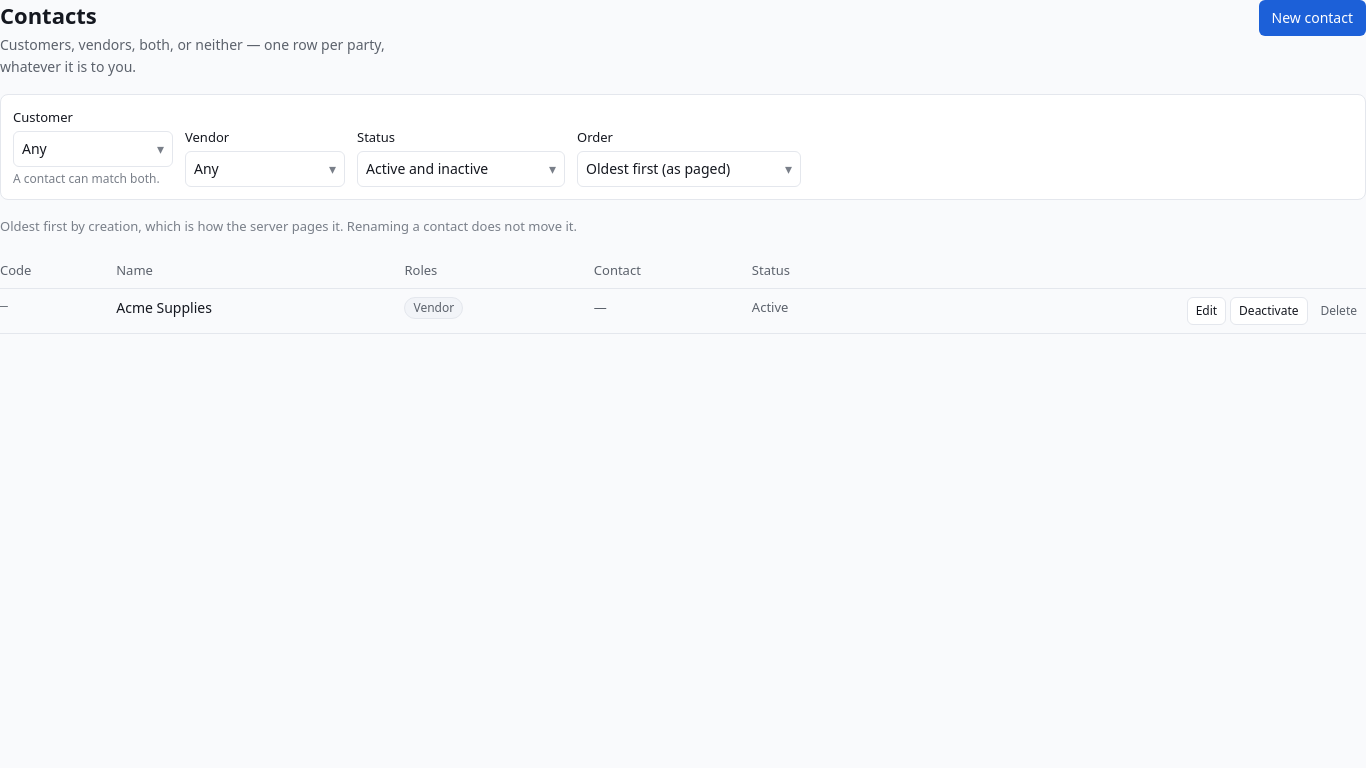
it: ContactsScreen › deletion › deletes a contact nothing references
This screenshot has width=1366, height=768.
Click the button with aria-label "Delete Acme Supplies" at (1339, 311), box [1312,297,1365,325]
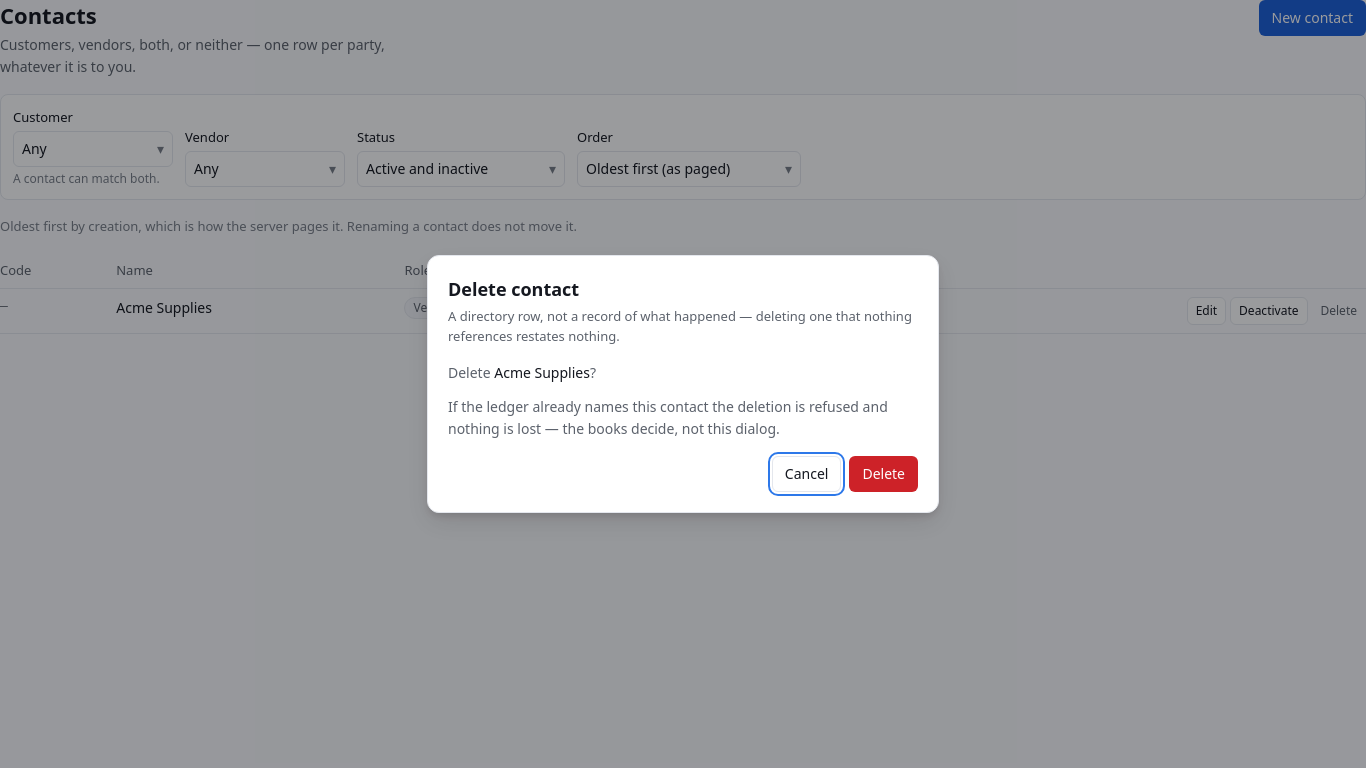
Click the button "Delete" at (884, 474), box [849,456,918,492]
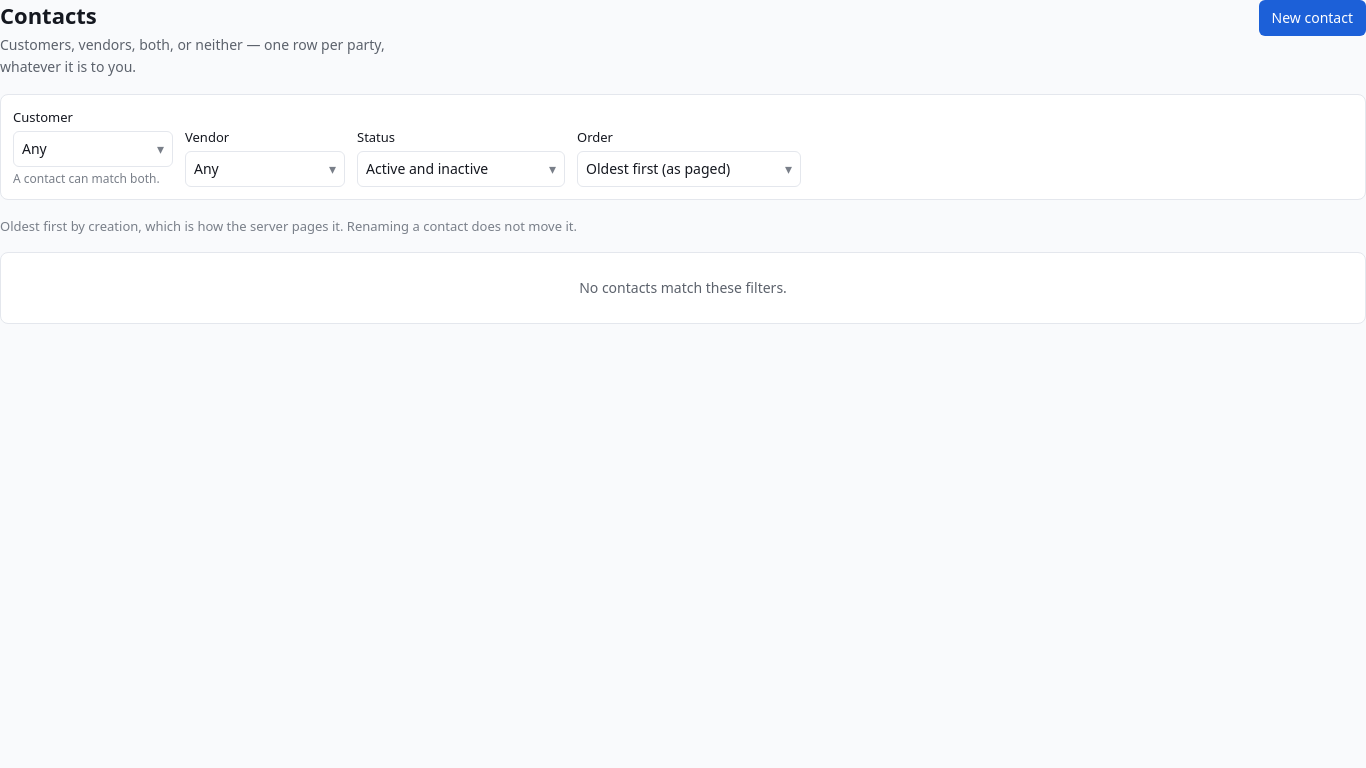
Expected: the text "No contacts match these filters." is shown, [0,252,1365,324]
